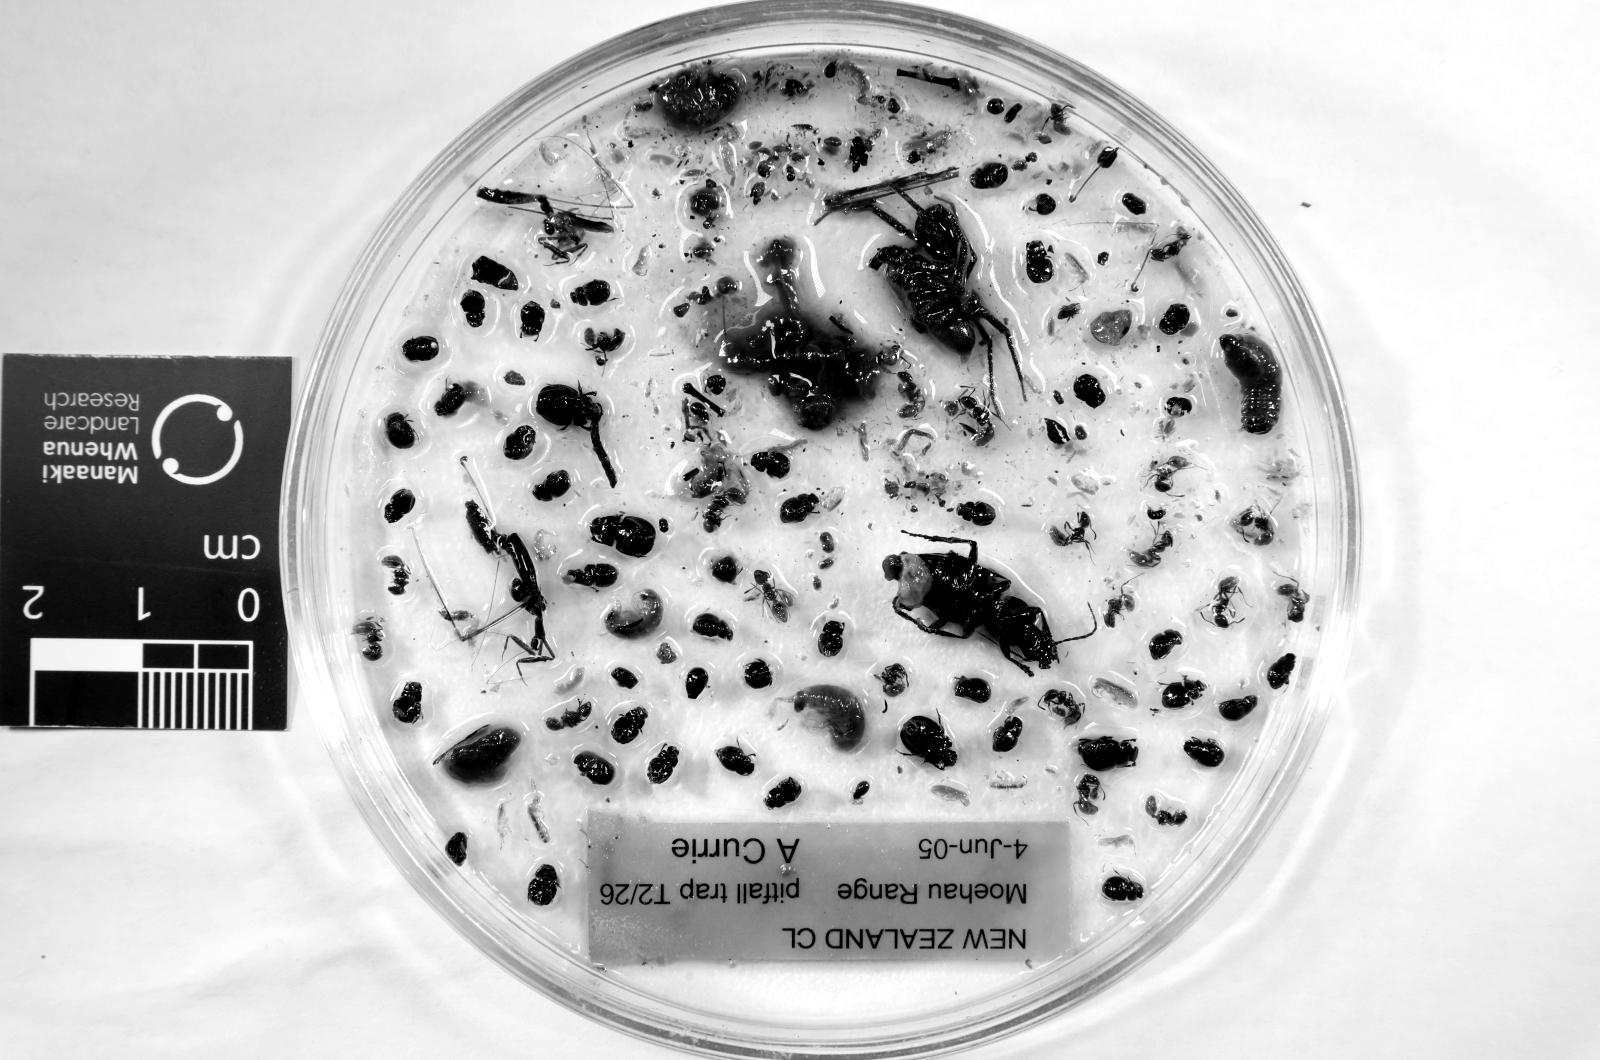amphipoda: (793, 684, 866, 751), (603, 590, 666, 640)
araneae: (872, 245, 1022, 407)
carabidae: (885, 541, 1060, 677)
coleoptera: (900, 715, 957, 770), (535, 386, 603, 428), (590, 516, 656, 556), (1075, 736, 1138, 770), (609, 705, 647, 745), (525, 864, 559, 906), (575, 751, 616, 786), (390, 680, 422, 724), (1162, 677, 1206, 707), (531, 468, 572, 500), (1025, 239, 1054, 283), (691, 612, 734, 640), (647, 745, 678, 786), (1265, 652, 1297, 690), (1100, 873, 1144, 900), (969, 161, 1010, 189), (715, 745, 753, 776), (384, 413, 415, 451), (778, 493, 818, 522), (750, 451, 791, 478), (1185, 739, 1225, 767), (953, 677, 991, 705), (503, 426, 535, 459), (765, 776, 799, 807), (991, 717, 1022, 751), (1159, 304, 1191, 336), (957, 500, 997, 525), (1219, 696, 1259, 720), (459, 289, 485, 327), (1075, 376, 1106, 407), (384, 491, 415, 522), (1147, 631, 1181, 658), (818, 621, 843, 658), (572, 279, 609, 304), (584, 562, 618, 587), (522, 302, 546, 336), (403, 336, 438, 360), (685, 667, 710, 699)
collembola: (1094, 677, 1138, 707), (525, 791, 550, 845), (931, 783, 969, 807), (1065, 252, 1090, 283), (987, 770, 1028, 789), (1097, 833, 1134, 851), (631, 245, 650, 277), (497, 801, 510, 839)
formicidae: (944, 388, 997, 447), (753, 568, 793, 625), (1200, 575, 1241, 631), (1231, 506, 1275, 547), (1037, 690, 1084, 726), (704, 491, 744, 531), (1128, 531, 1172, 568), (896, 369, 928, 419), (544, 699, 594, 730), (1050, 512, 1090, 550), (1153, 457, 1191, 493), (1275, 584, 1309, 625), (1149, 227, 1191, 260), (354, 618, 384, 661), (1144, 795, 1187, 826), (1103, 587, 1134, 627), (1075, 774, 1103, 816), (875, 665, 909, 699), (381, 556, 409, 596)
reduviidae: (478, 187, 613, 260), (497, 535, 556, 665)
